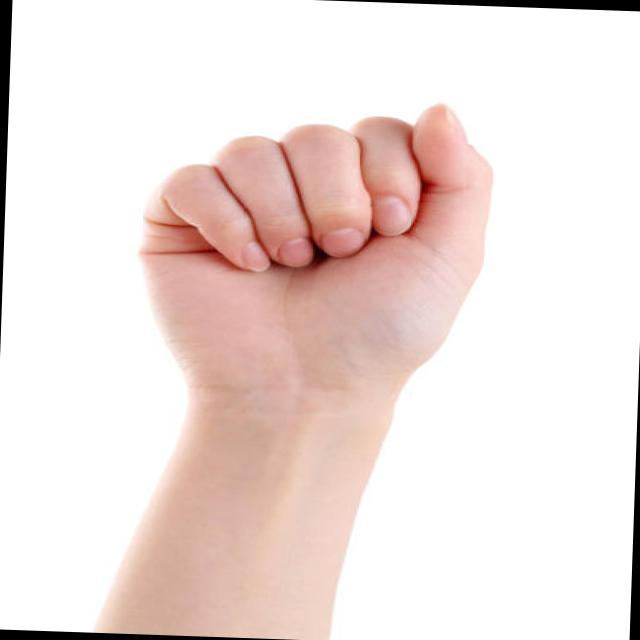Nail: (373, 196, 408, 235), (319, 227, 364, 257), (440, 102, 466, 144), (276, 238, 312, 265), (240, 241, 268, 272)
